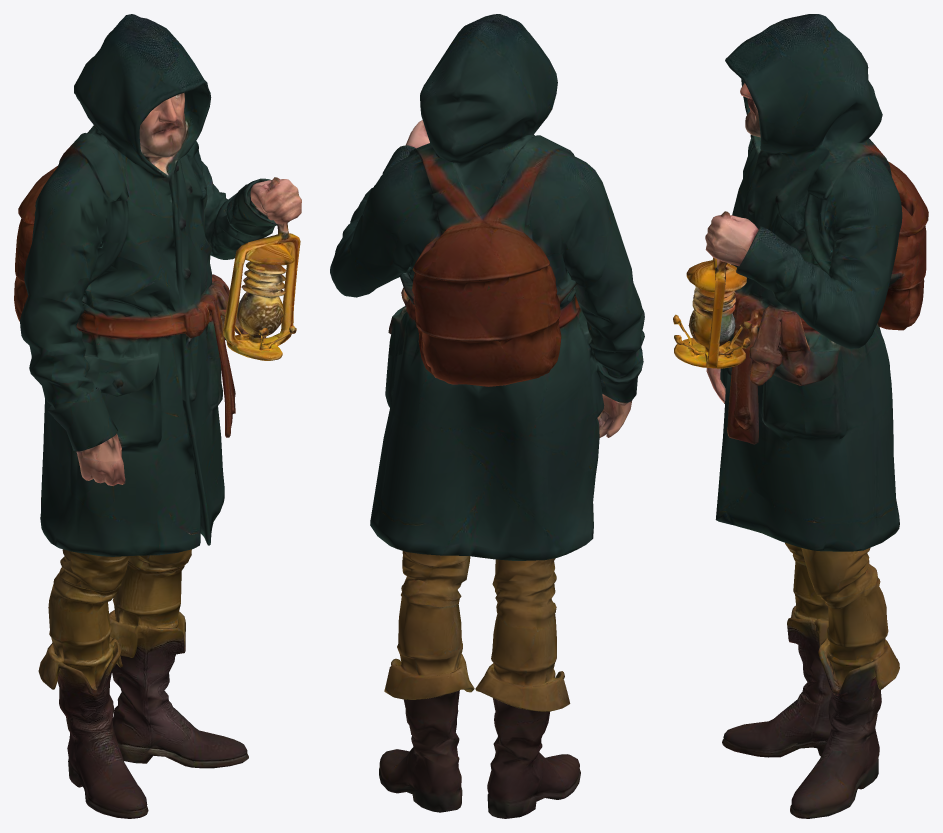
Rendered from hero.glb.
3 views of the same model, side by side, from view 1: azimuth 30°, elevation 25°; view 2: azimuth 150°, elevation 25°; view 3: azimuth 270°, elevation 25° (orthographic). The views are drawn at different scales.
Parts seen in each view (by area): view 1: pack; view 2: pack; view 3: pack.
Part boxes in pixels (<box>): pack: <box>14,14,301,818</box>; pack: <box>330,14,644,818</box>; pack: <box>673,14,928,818</box>.
Bounding box in the file's own units: 0.6456 × 1.8 × 0.5523.
Materials: 1 (1 with a texture image).
